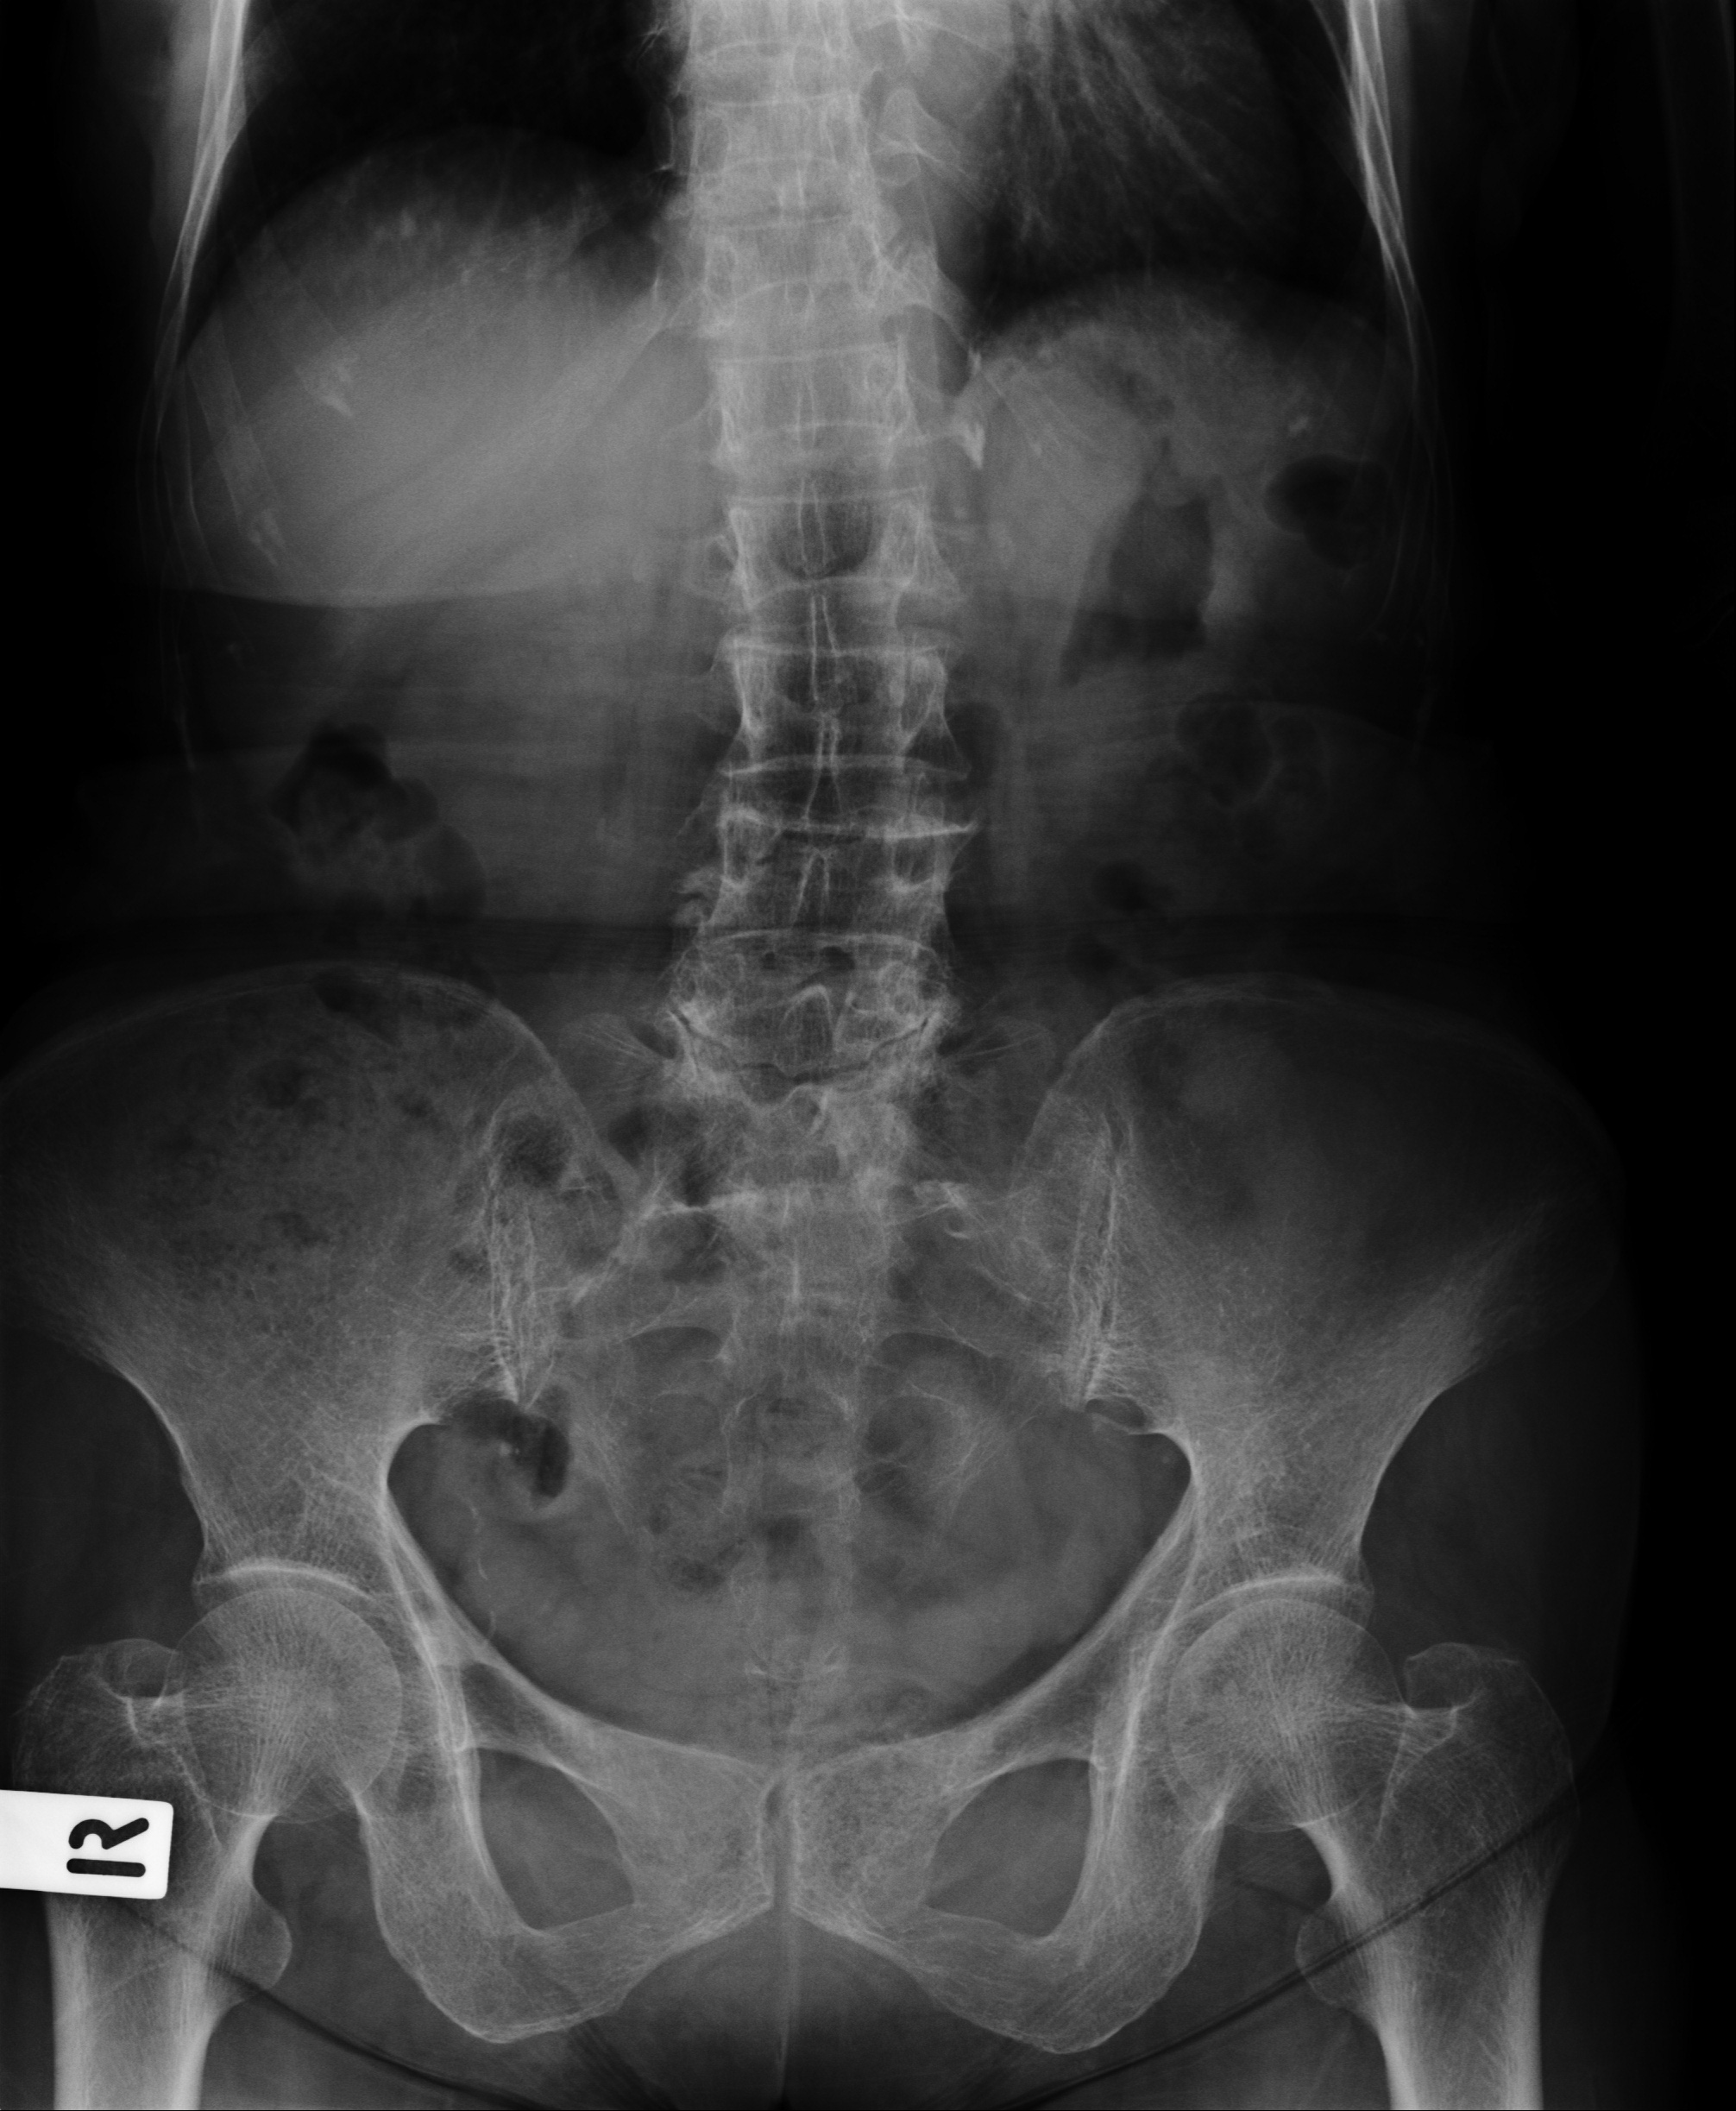lumbar scoliosis: (649, 32, 989, 1283)
